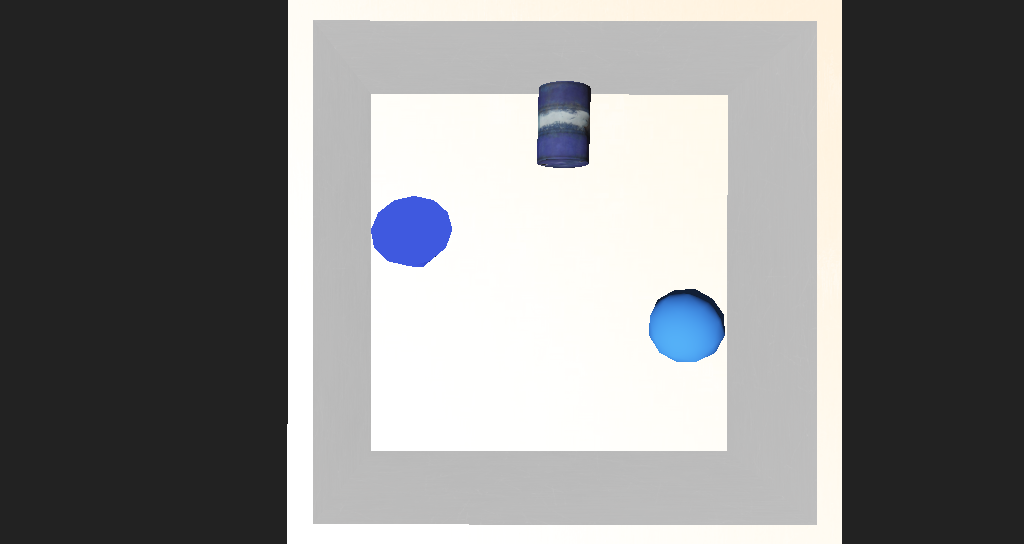cone: (495, 155, 542, 208)
cylinder: (354, 224, 428, 282)
sphere: (589, 279, 650, 322)
